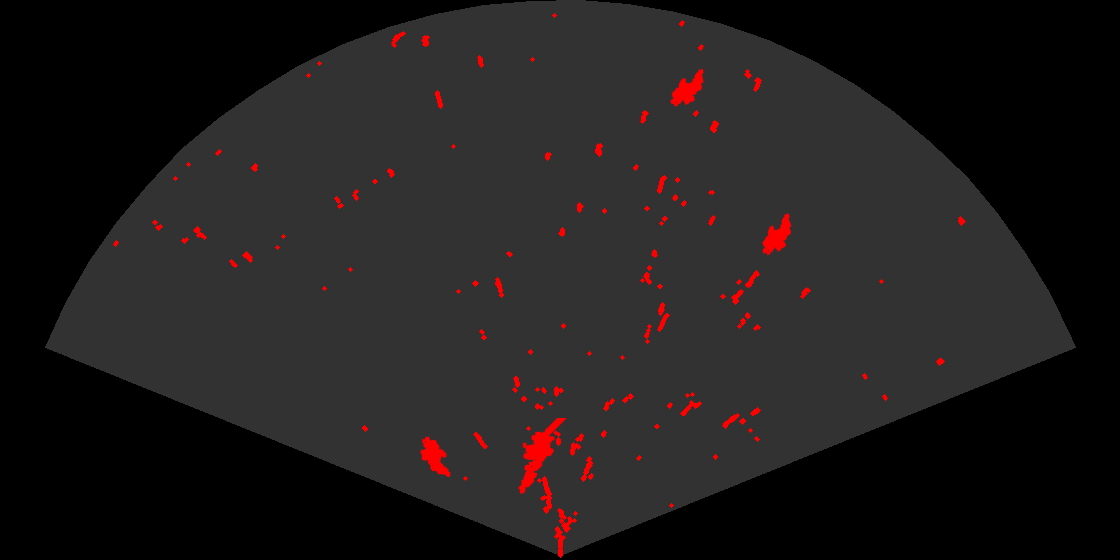AUV: (669, 67, 705, 108), (419, 435, 452, 479), (761, 212, 793, 257)
frogman: (517, 418, 568, 495)
